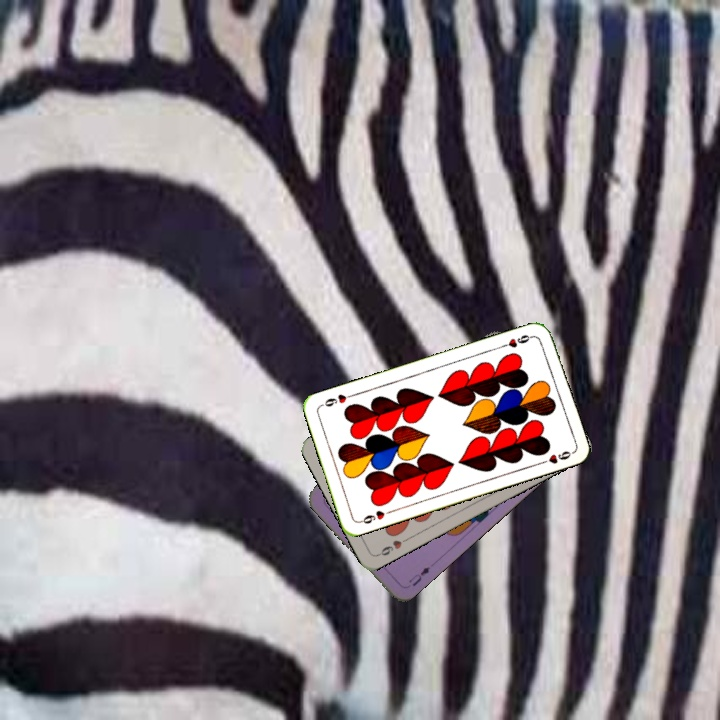EU: (405, 562, 432, 589)
H9: (373, 534, 411, 559), (355, 506, 395, 526), (497, 331, 536, 351)
